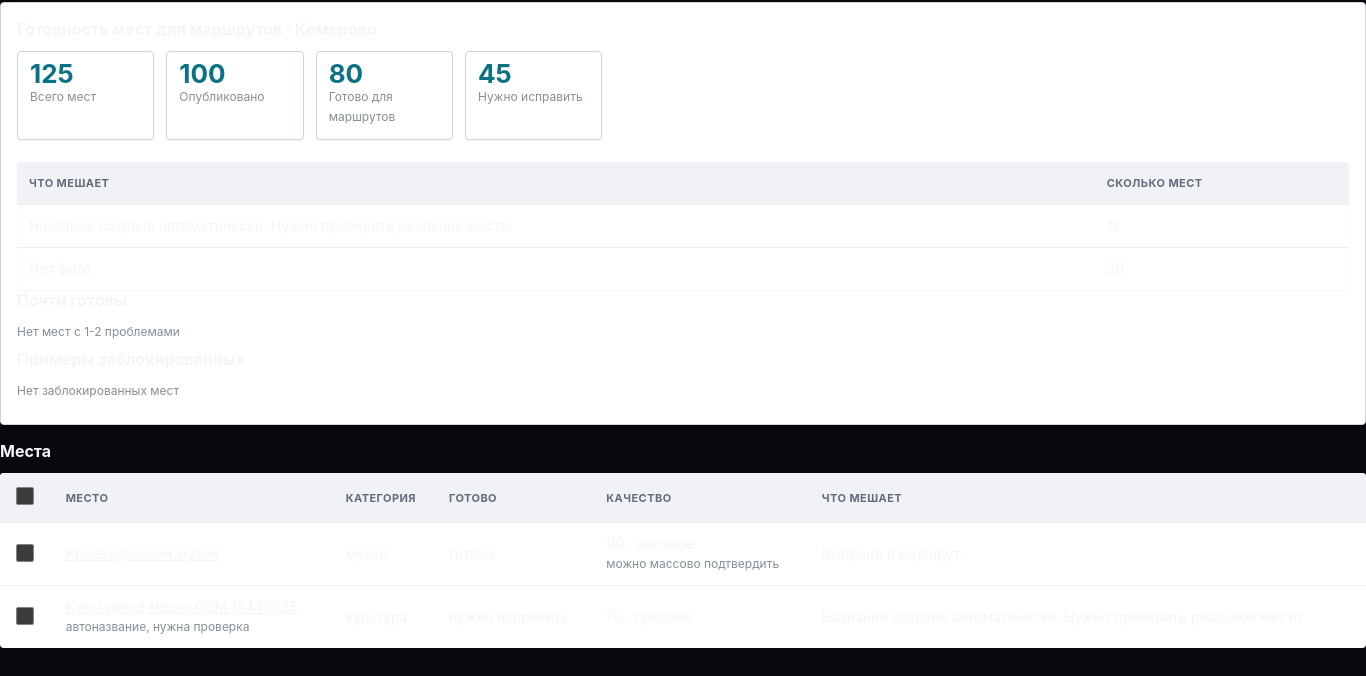
Test: AdminRouteEligibilityPage quality gates › shows a visible error when bulk action fails
The width and height of the screenshot is (1366, 676).
(page scrolled)
Click the checkbox named "Выбрать Краеведческий музей". click: click(25, 553)
box: [16, 544, 34, 562]
(page scrolled)
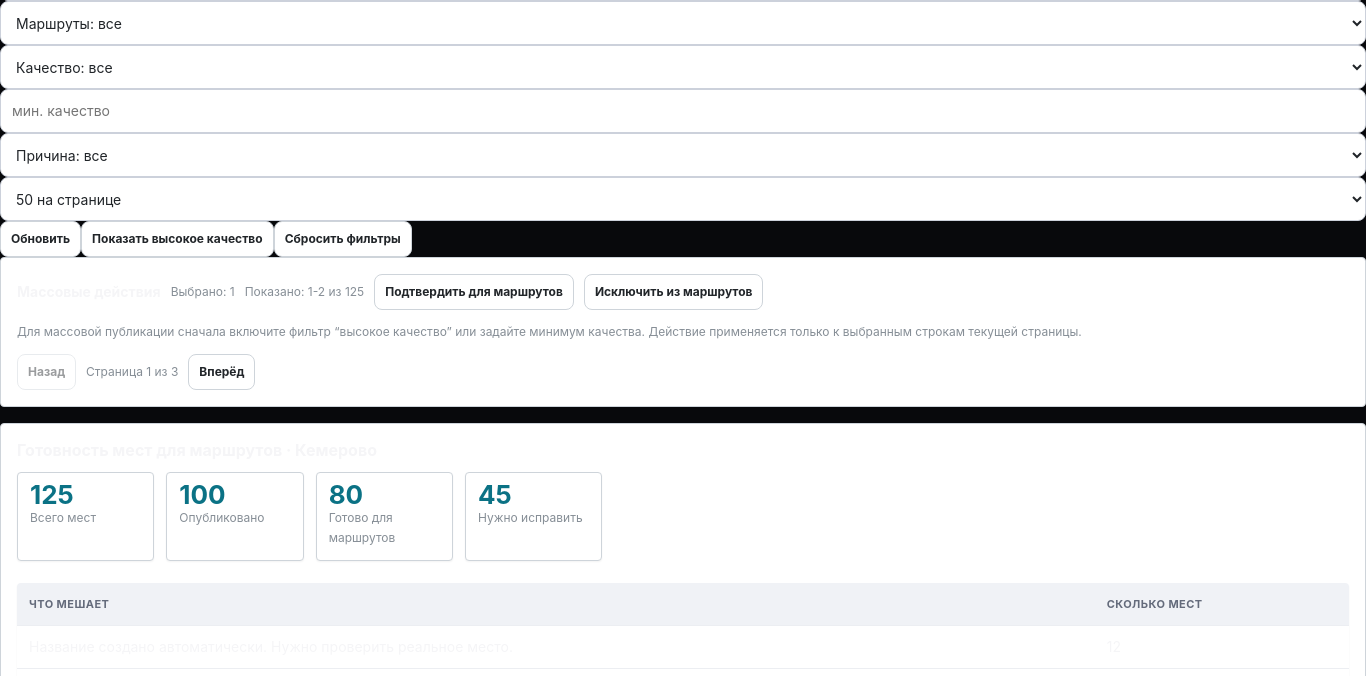
Click the button "Подтвердить для маршрутов". click: click(474, 292)
box: [374, 274, 574, 310]
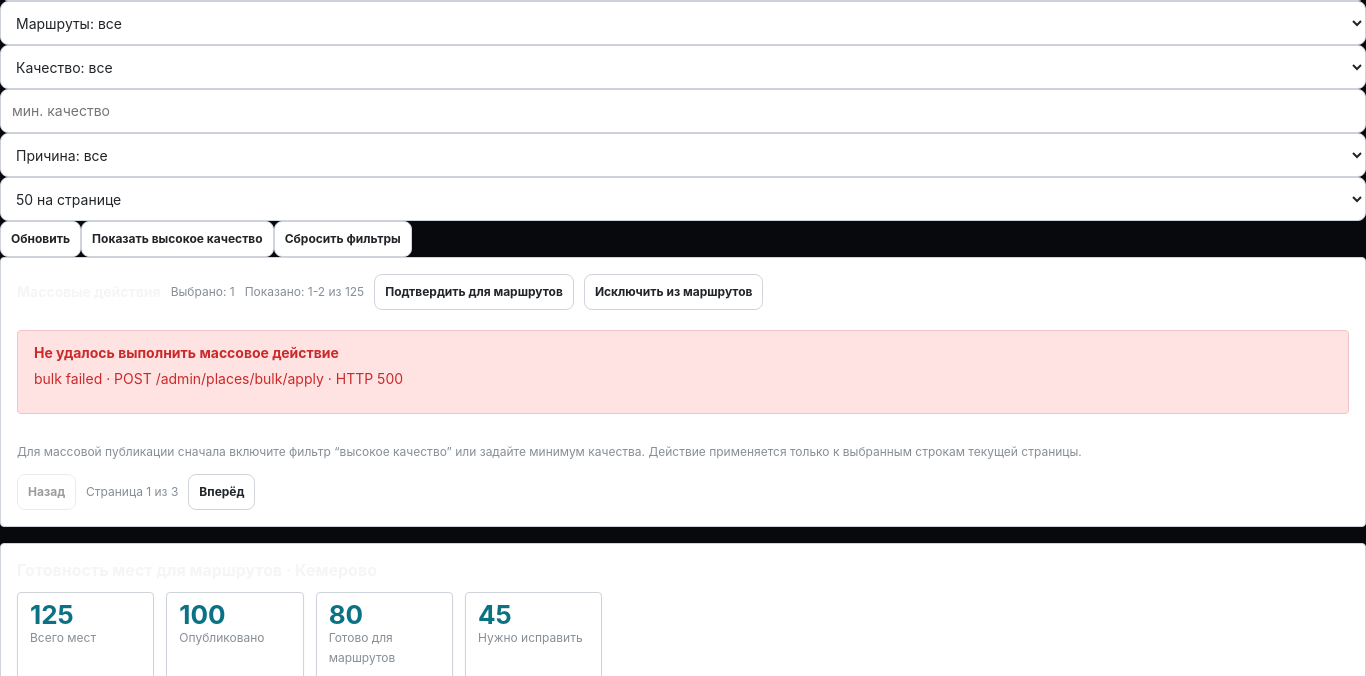
Expected: the text "bulk failed · POST /admin/places/bulk/apply · HTTP 500" is shown, [34, 370, 403, 387]
